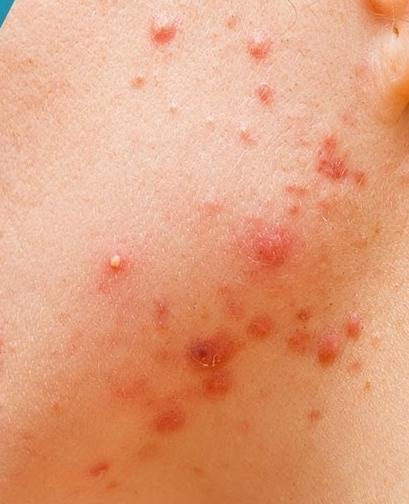blackhead: (271, 19, 301, 57), (121, 67, 149, 100), (224, 3, 253, 34), (200, 111, 221, 135), (326, 294, 343, 322), (343, 261, 355, 291), (289, 82, 309, 97)
papular: (232, 221, 340, 280), (303, 129, 373, 194), (133, 394, 204, 451), (175, 328, 235, 380), (232, 304, 287, 350), (318, 337, 349, 380)
purulent: (100, 250, 140, 280), (154, 15, 182, 56)
